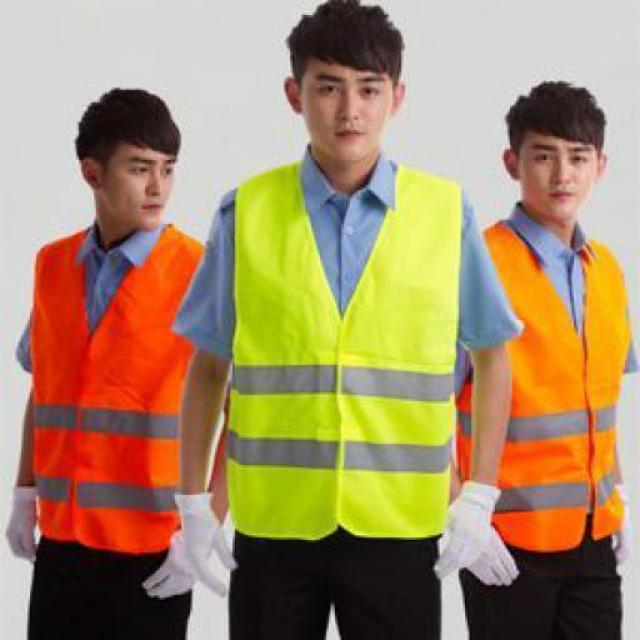face_nomask: (311, 75, 388, 151), (524, 144, 594, 212), (118, 155, 177, 220)
hand_glove: (170, 489, 242, 596), (434, 477, 498, 583), (4, 484, 44, 570)
head_nohelmet: (273, 0, 409, 75), (494, 70, 614, 150), (73, 80, 184, 156)
person: (177, 0, 519, 640), (10, 81, 229, 640), (436, 66, 640, 640)
vest: (226, 175, 454, 537), (28, 220, 208, 546), (467, 215, 638, 553)
